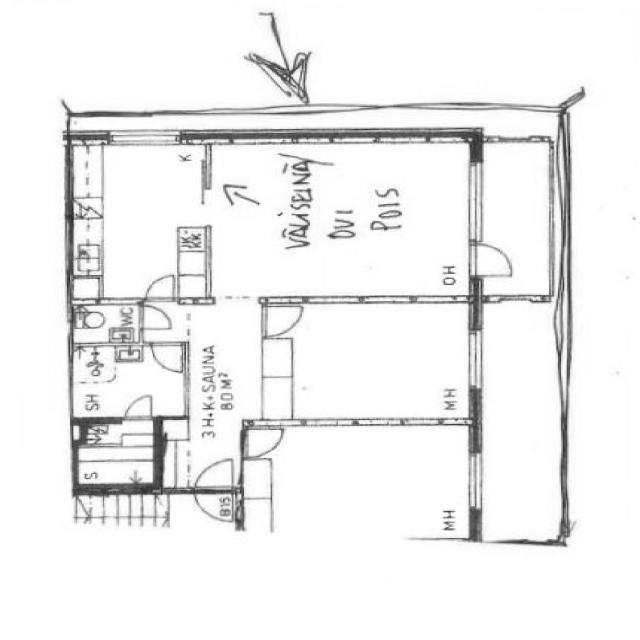door: (465, 240, 519, 281), (260, 300, 306, 340), (241, 422, 289, 460), (193, 456, 239, 495), (191, 489, 237, 523), (148, 340, 189, 375), (140, 272, 180, 306), (121, 392, 159, 423), (138, 304, 174, 333)
window: (460, 156, 492, 246), (461, 320, 488, 393), (462, 444, 489, 516), (106, 128, 182, 150)
zone: (210, 138, 475, 304), (244, 425, 479, 544), (265, 302, 476, 422), (69, 139, 207, 304), (70, 344, 188, 420), (74, 420, 158, 490), (70, 301, 143, 345)
